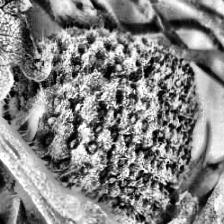Powdery Mildew Fruit: (2, 27, 201, 224)
